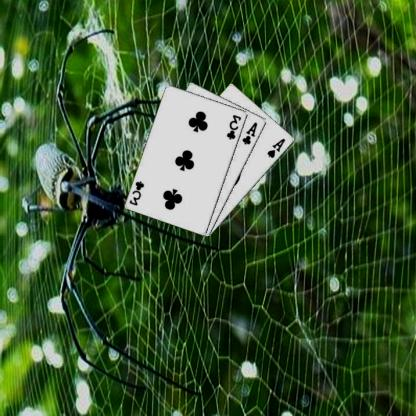3C: (128, 178, 147, 207), (226, 112, 244, 141)
AC: (242, 120, 260, 146)
AS: (267, 136, 288, 159)
